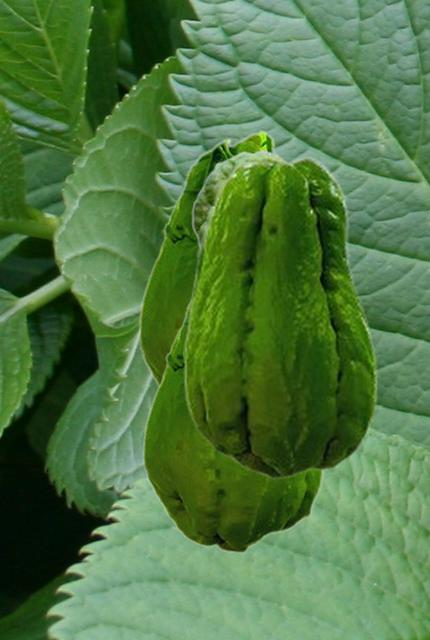sayote: (183, 155, 377, 479), (142, 299, 323, 553), (138, 130, 280, 385), (191, 149, 285, 244)
